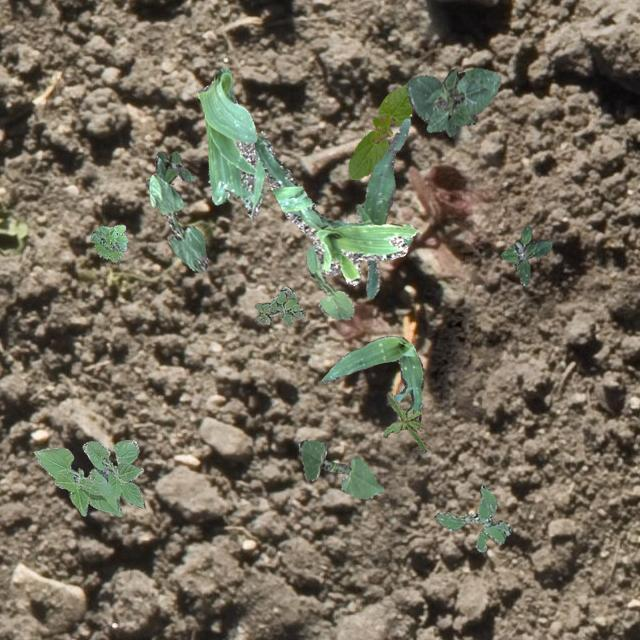crop: (253, 136, 418, 284), (197, 66, 266, 218), (356, 118, 412, 298), (32, 440, 144, 516), (319, 334, 422, 412), (404, 66, 500, 136), (348, 84, 410, 178), (148, 172, 206, 272), (297, 438, 383, 498), (304, 244, 352, 318)
weed: (434, 484, 511, 550), (500, 224, 550, 284), (382, 392, 427, 451), (253, 286, 304, 326), (144, 150, 193, 188), (90, 223, 126, 260)
